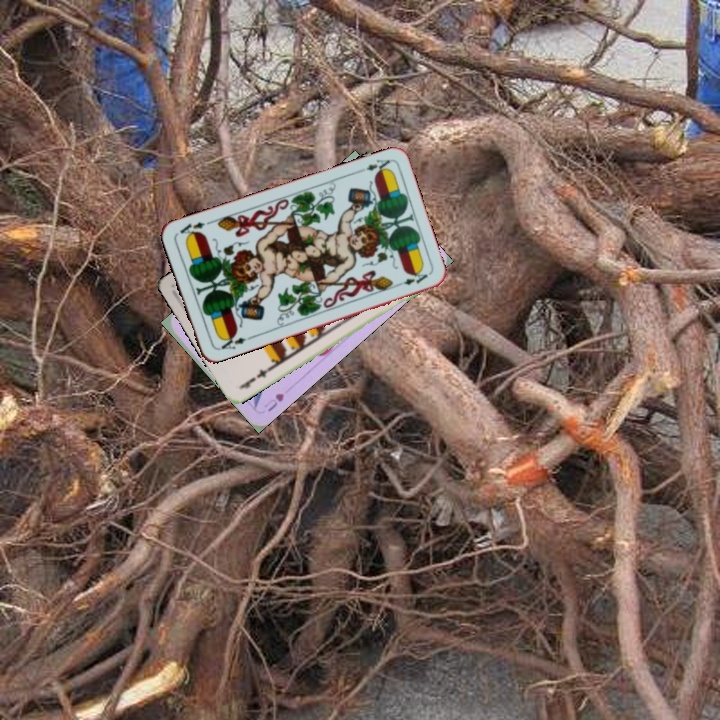E7: (236, 364, 273, 391)
EA: (214, 330, 253, 353), (353, 155, 393, 176)
HU: (260, 389, 287, 414)
